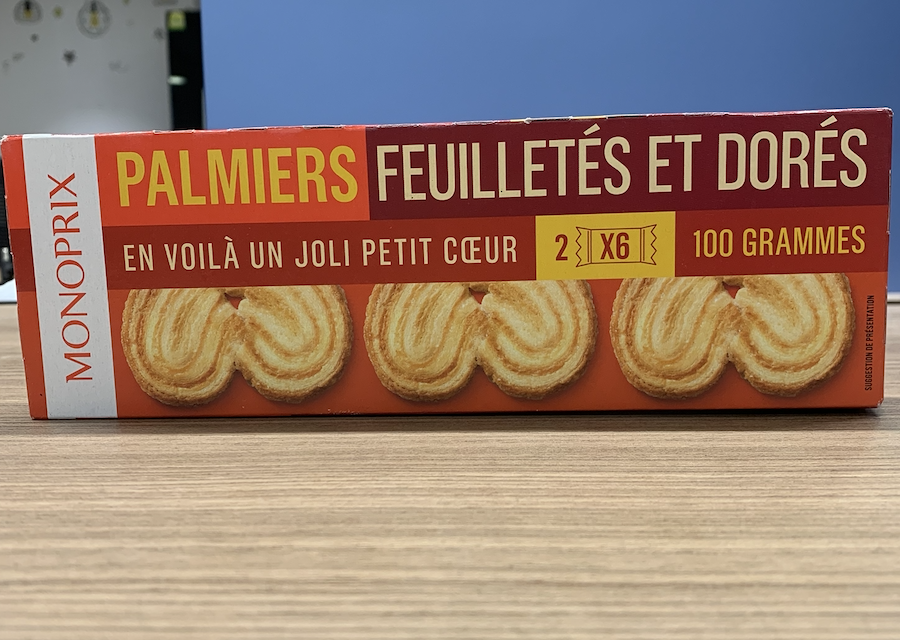cookies_150g: (25, 133, 879, 401)
